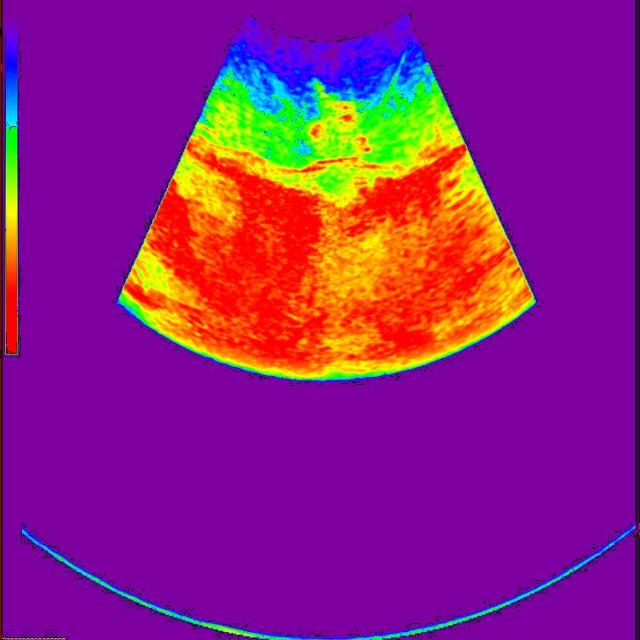lamb muscle post: (309, 90, 369, 160)
